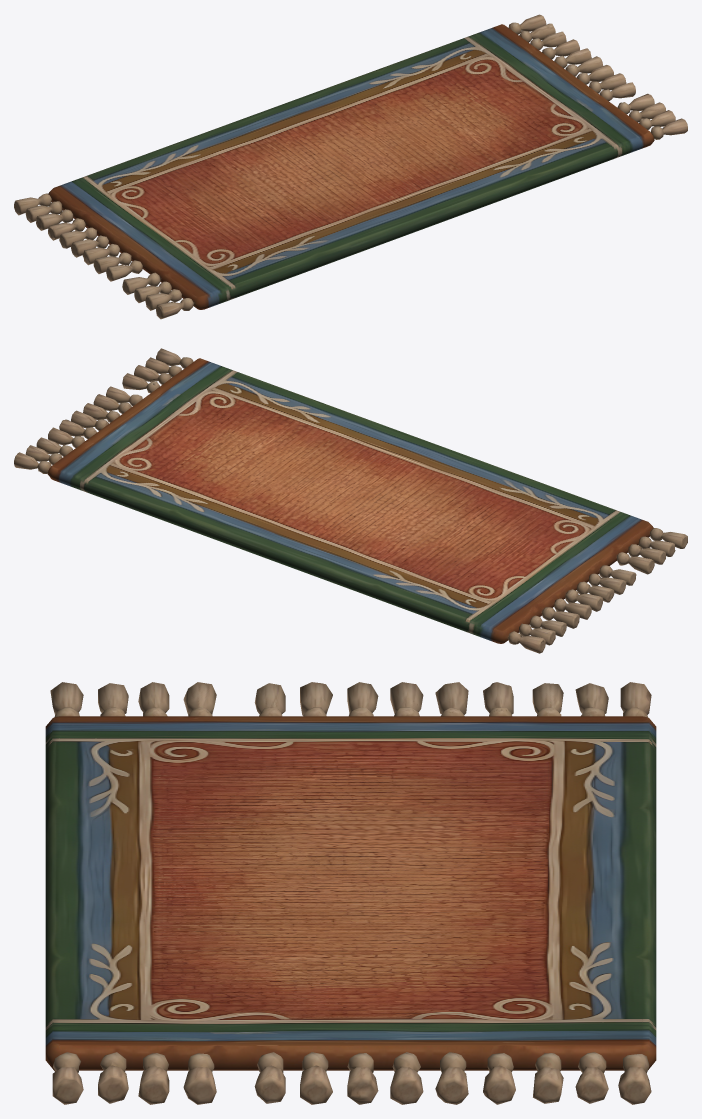
3 renders of one model, top to bottom at view 1: azimuth 30°, elevation 25°; view 2: azimuth 150°, elevation 25°; view 3: azimuth 270°, elevation 25°, orthographic. The views are drawn at different scales.
Parts seen in each view (by area): view 1: tripo_node_35f81366-b068-457a-88ba-b0b83aed5ffd; view 2: tripo_node_35f81366-b068-457a-88ba-b0b83aed5ffd; view 3: tripo_node_35f81366-b068-457a-88ba-b0b83aed5ffd.
Part boxes in pixels (x1,y1,x2,y2): tripo_node_35f81366-b068-457a-88ba-b0b83aed5ffd: (14, 14, 687, 319); tripo_node_35f81366-b068-457a-88ba-b0b83aed5ffd: (14, 348, 687, 653); tripo_node_35f81366-b068-457a-88ba-b0b83aed5ffd: (45, 682, 656, 1104).
Size of the model in its own units: 0.998 by 0.1309 by 0.502.
1 material, 1 textured.
